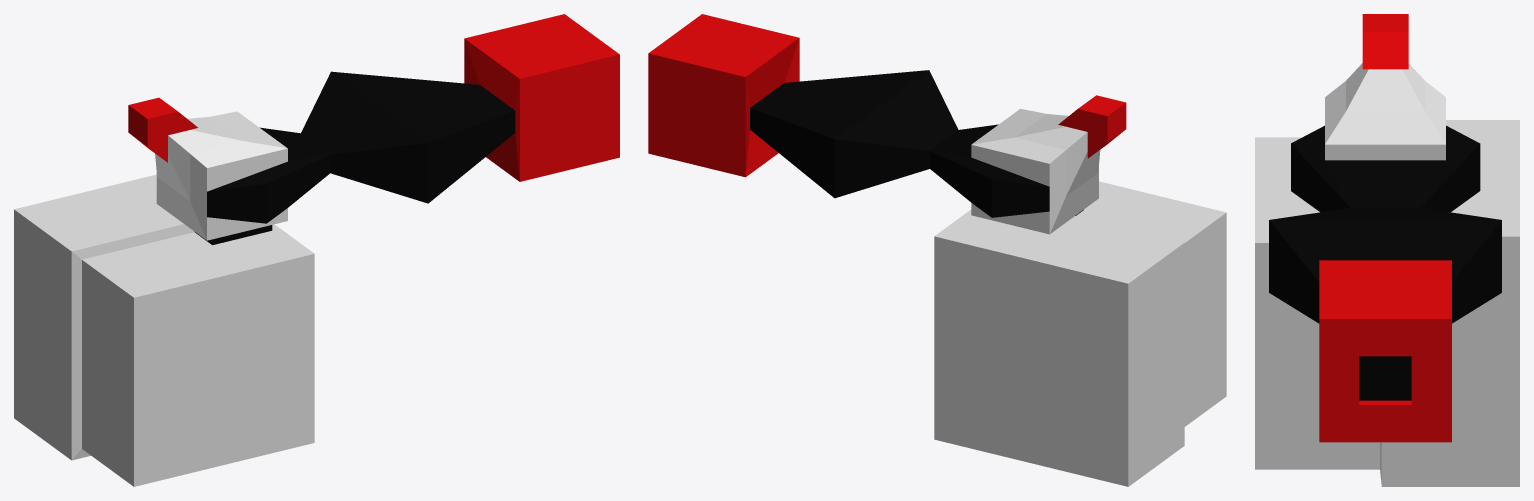
The model's file is Robot_Gun.fbx.
The picture shows the model from 3 angles, left to right: view 1: azimuth 30°, elevation 25°; view 2: azimuth 150°, elevation 25°; view 3: azimuth 270°, elevation 25°; orthographic projection. The views are drawn at different scales.
Parts seen in each view (by area): view 1: Cube.001; view 2: Cube.001; view 3: Cube.001.
Boxes of the visible parts, x1,y1,x2,y2 form: Cube.001: [14, 14, 619, 486]; Cube.001: [648, 14, 1226, 486]; Cube.001: [1255, 14, 1519, 486].
Size of the model in its own units: 251 by 152 by 91.94.
